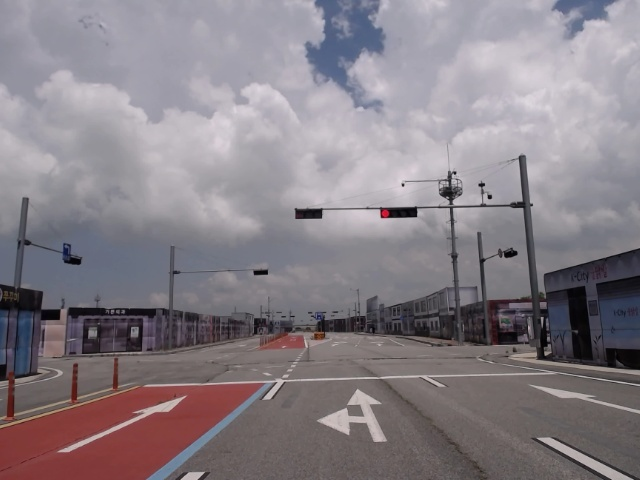red_4: (380, 208, 417, 218)
